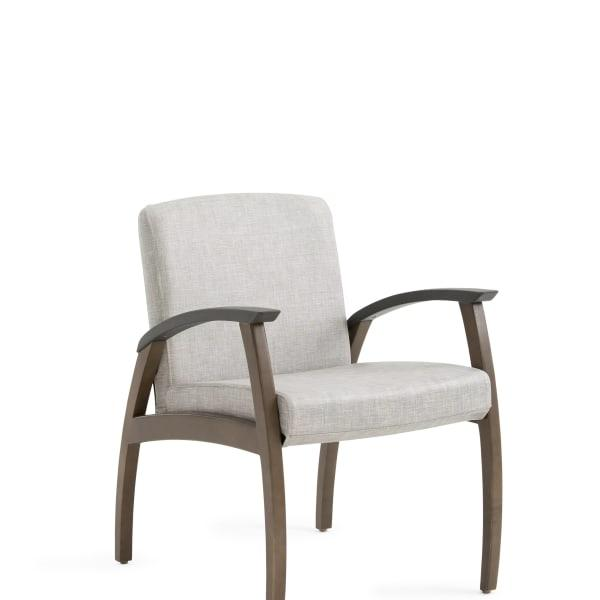sofa: (108, 176, 516, 594)
